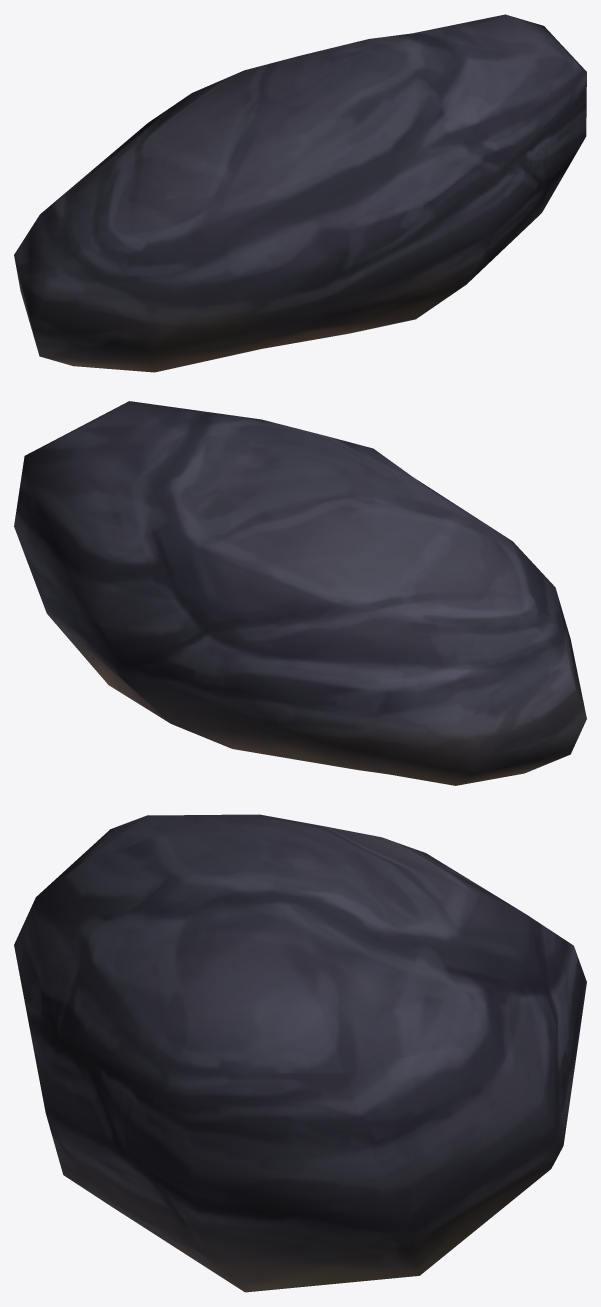
File: rock_01.fbx
3 renders of one model, top to bottom at view 1: azimuth 30°, elevation 25°; view 2: azimuth 150°, elevation 25°; view 3: azimuth 270°, elevation 25°, orthographic. The views are drawn at different scales.
Visible parts, largest first — view 1: rock_01; view 2: rock_01; view 3: rock_01.
Part boxes in pixels (box(x1,y1,x2,y2)): rock_01: box(14, 14, 586, 372); rock_01: box(14, 401, 586, 785); rock_01: box(14, 814, 586, 1292).
Bounding box in the file's own units: 448 × 210 × 270.
